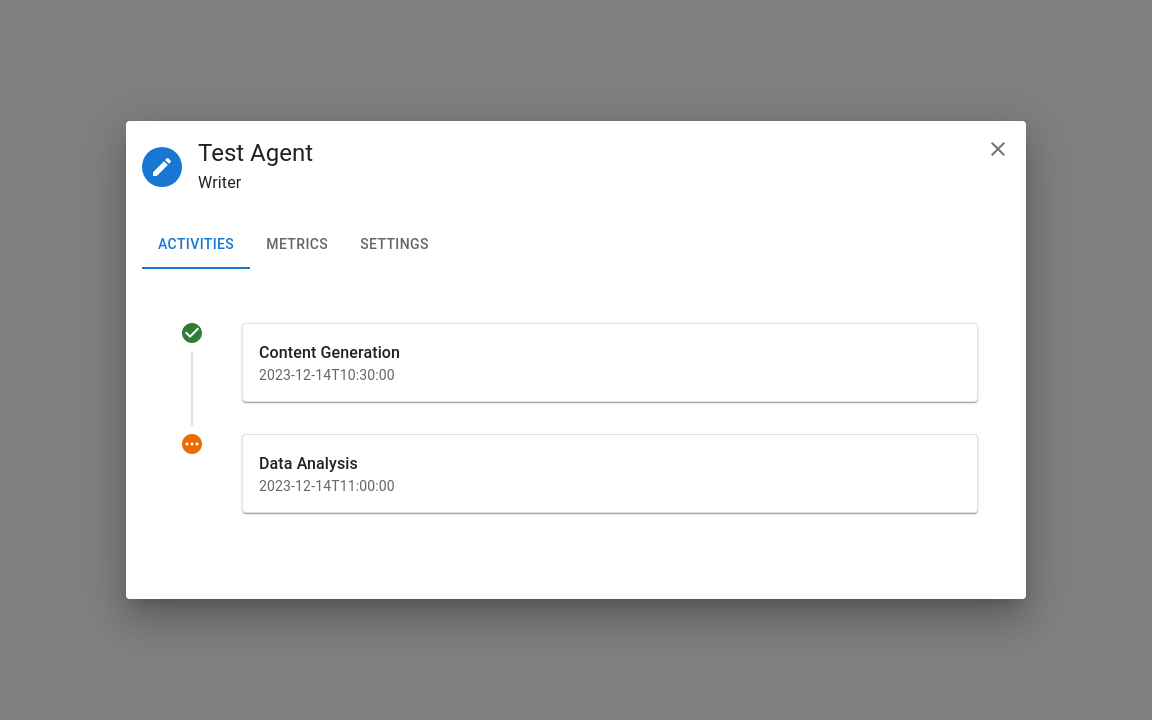
Scenario: AgentDetails Settings Panel › displays settings panel when Settings tab is clicked
Click the tab "Settings".
click(394, 245)  # box top-left (344, 221), bottom-right (445, 269)
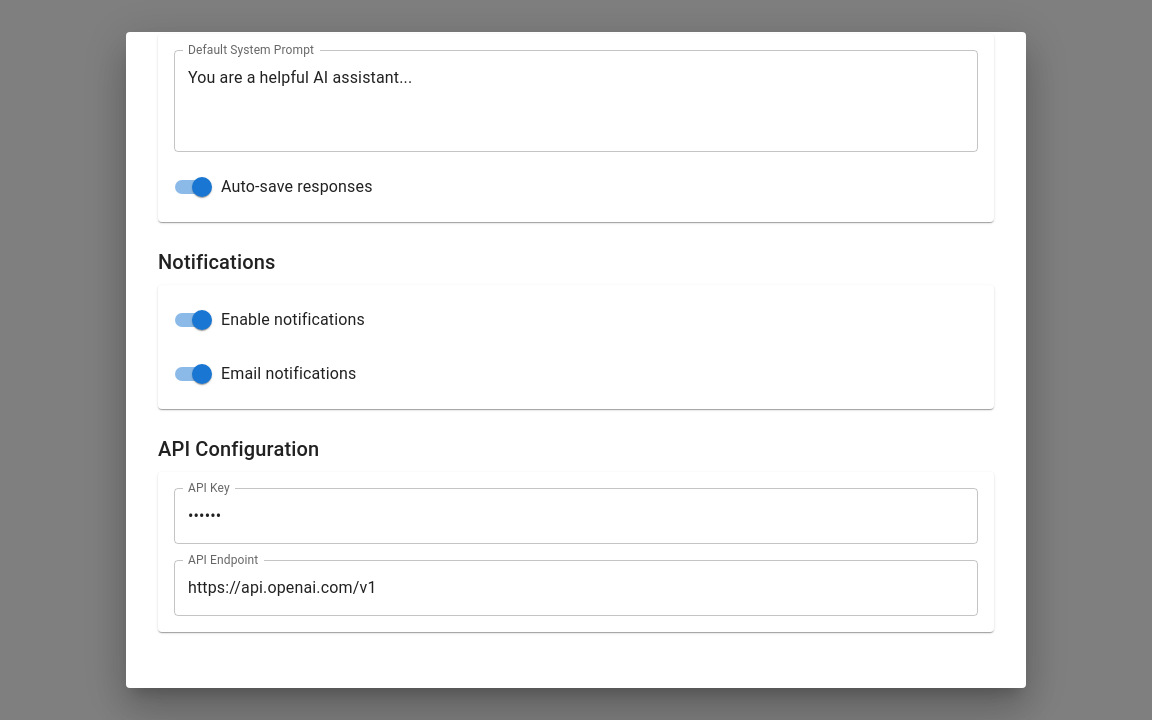
Check: the heading "Notifications" is shown, box top-left (158, 250), bottom-right (276, 274)
Check: the heading "API Configuration" is shown, box top-left (158, 437), bottom-right (319, 461)
